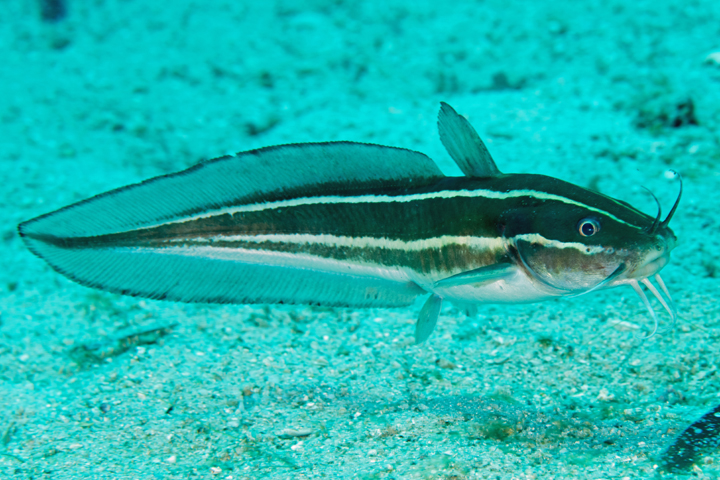gonzui: (13, 103, 700, 334)
